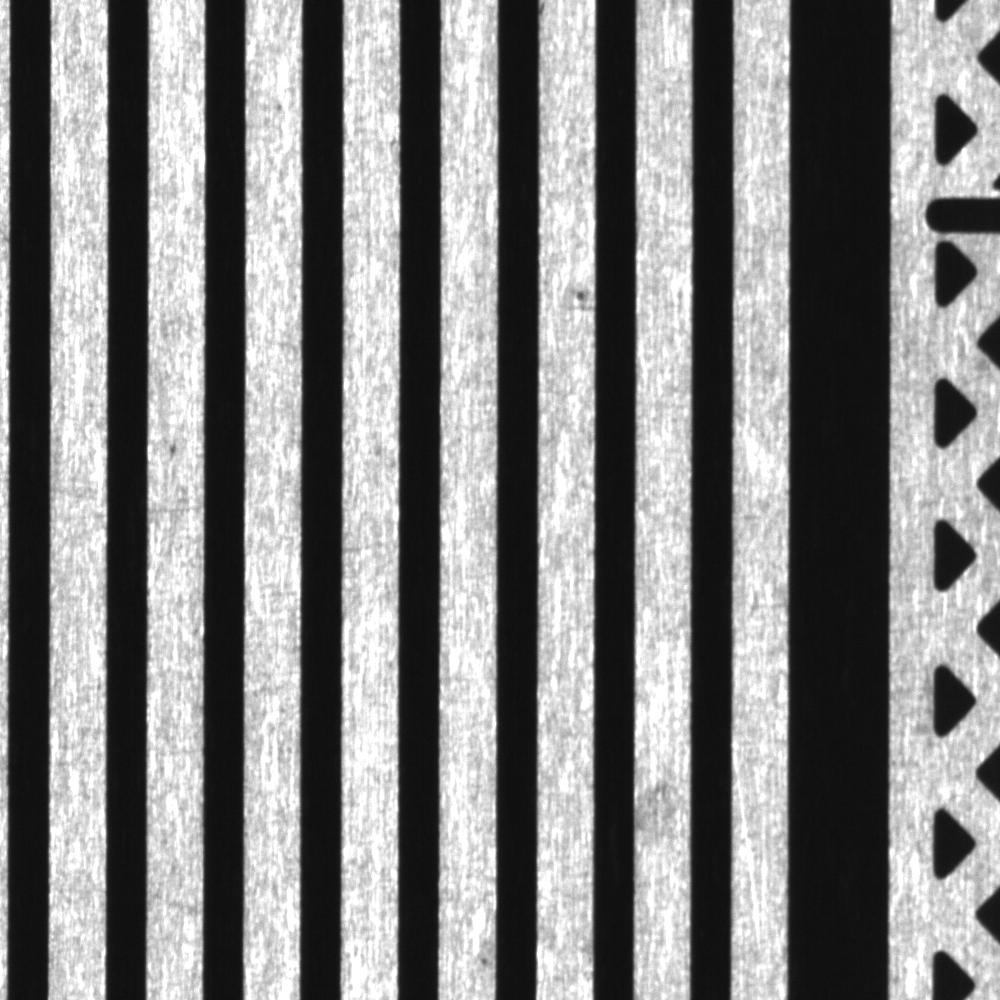Etching: (558, 279, 599, 321), (154, 429, 196, 468)
Pinhole: (473, 945, 497, 975)
Scar: (150, 492, 206, 526)
